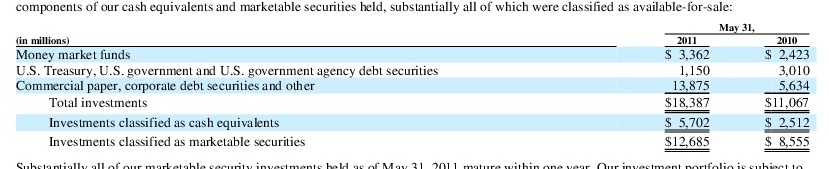table: (0, 0, 829, 169)
